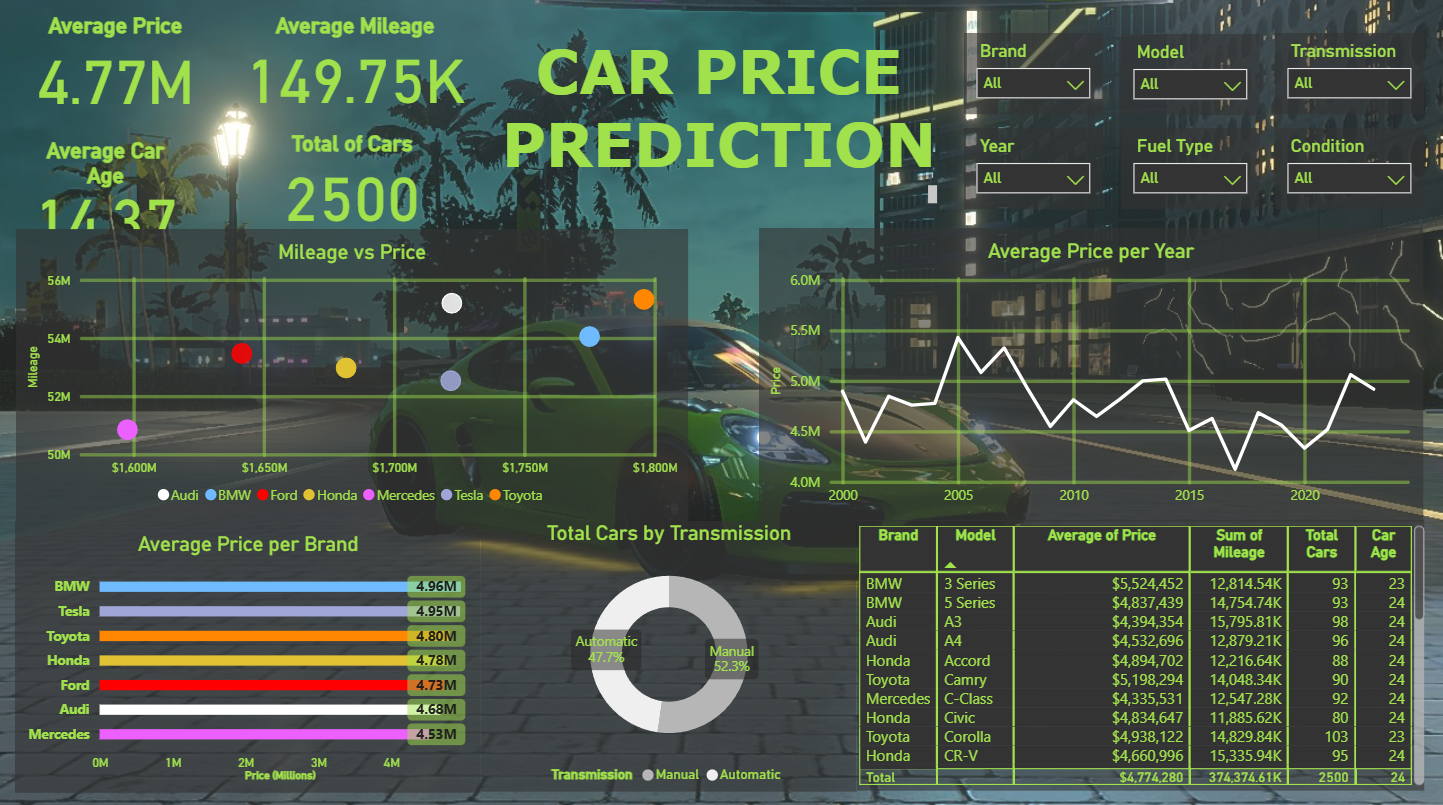

What the dashboard file says about the page in this screenshot:
{"tool":"powerbi","page":{"name":"Page 1","canvas":[1280,720],"ordinal":0},"visuals":[{"type":"card","title":"Average Price","fields":{"Values":["car_price_prediction_.Average Price"]},"box":[15,0,176.2,111.2],"z":0},{"type":"card","title":"Average Mileage","fields":{"Values":["car_price_prediction_.Average Mileage"]},"box":[191.4,0,248.6,111.4],"z":1000},{"type":"card","title":"Average Car Age","fields":{"Values":["car_price_prediction_.Average Car Age"]},"box":[14.5,111,160.5,111],"z":2000},{"type":"card","title":"Total of Cars","fields":{"Values":["car_price_prediction_.Total Cars"]},"box":[232.9,104.3,160,111.4],"z":3000},{"type":"clusteredBarChart","title":"Average Price per Brand","fields":{"Y":["car_price_prediction_.Average Price"],"Category":["car_price_prediction_.Brand"]},"box":[14.4,465.6,413.3,241.1],"z":4000},{"type":"scatterChart","title":"Mileage vs Price","fields":{"X":["Sum(car_price_prediction_.Price)"],"Y":["Sum(car_price_prediction_.Mileage)"],"Series":["car_price_prediction_.Brand"]},"box":[15,206.2,596.2,258.8],"z":5000},{"type":"lineChart","title":"Average Price per Year","fields":{"Category":["car_price_prediction_.Year"],"Y":["car_price_prediction_.Average Price"]},"box":[674.3,205.7,588.6,260],"z":6000},{"type":"textbox","title":"CAR PRICE PREDICTION","box":[440,32.9,397.1,155.7],"z":7000},{"type":"slicer","fields":{"Values":["car_price_prediction_.Brand"]},"box":[855.4,33.1,123.1,71.5],"z":8000},{"type":"slicer","fields":{"Values":["car_price_prediction_.Year"]},"box":[855.4,116.9,123.1,71.5],"z":9000},{"type":"slicer","fields":{"Values":["car_price_prediction_.Model"]},"box":[994.6,33.8,123.1,71.5],"z":10000},{"type":"slicer","fields":{"Values":["car_price_prediction_.Fuel Type"]},"box":[994.6,116.9,123.1,71.5],"z":11000},{"type":"slicer","fields":{"Values":["car_price_prediction_.Transmission"]},"box":[1131.5,33.1,131.5,71.5],"z":12000},{"type":"slicer","fields":{"Values":["car_price_prediction_.Condition"]},"box":[1131.5,116.9,131.5,71.5],"z":13000},{"type":"tableEx","fields":{"Values":["car_price_prediction_.Brand","car_price_prediction_.Model","Avg(car_price_prediction_.Price)","Sum(car_price_prediction_.Mileage)","car_price_prediction_.Total Cars","Count(car_price_prediction_.Car Age)"]},"box":[761,464.9,502.6,240.3],"z":14000},{"type":"donutChart","fields":{"Category":["car_price_prediction_.Transmission"],"Y":["car_price_prediction_.Total Cars"]},"box":[427.8,465.6,333.3,240],"z":15000}]}

Visuals, with their boxes in screenshot pixels (x1, y1, x2, y2), scaled from the page's 1280x720 canvas onto the 1443x805 screenshot:
"Average Price" card: x1=17, y1=0, x2=216, y2=124
"Average Mileage" card: x1=216, y1=0, x2=496, y2=125
"Average Car Age" card: x1=16, y1=124, x2=197, y2=248
"Total of Cars" card: x1=263, y1=117, x2=443, y2=241
"Average Price per Brand" clusteredBarChart: x1=16, y1=521, x2=482, y2=790
"Mileage vs Price" scatterChart: x1=17, y1=231, x2=689, y2=520
"Average Price per Year" lineChart: x1=760, y1=230, x2=1424, y2=521
"CAR PRICE PREDICTION" textbox: x1=496, y1=37, x2=944, y2=211
slicer - car_price_prediction_.Brand: x1=964, y1=37, x2=1103, y2=117
slicer - car_price_prediction_.Year: x1=964, y1=131, x2=1103, y2=211
slicer - car_price_prediction_.Model: x1=1121, y1=38, x2=1260, y2=118
slicer - car_price_prediction_.Fuel Type: x1=1121, y1=131, x2=1260, y2=211
slicer - car_price_prediction_.Transmission: x1=1276, y1=37, x2=1424, y2=117
slicer - car_price_prediction_.Condition: x1=1276, y1=131, x2=1424, y2=211
tableEx - car_price_prediction_.Brand x car_price_prediction_.Model: x1=858, y1=520, x2=1425, y2=788
donutChart - car_price_prediction_.Transmission x car_price_prediction_.Total Cars: x1=482, y1=521, x2=858, y2=789
